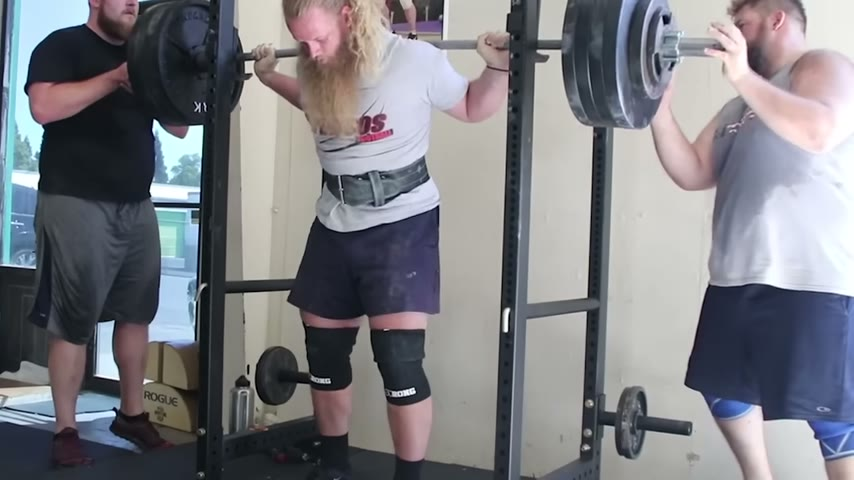barbell_plate_side: (550, 0, 615, 143)
